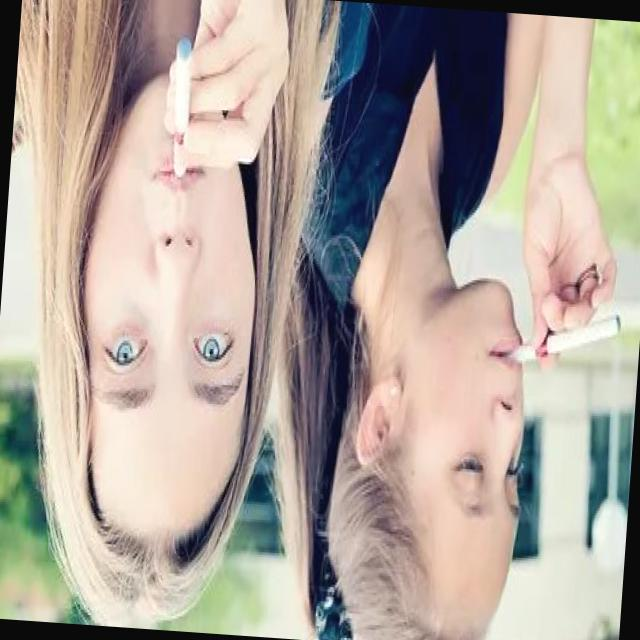smoke: (505, 307, 622, 372), (162, 29, 198, 182)
